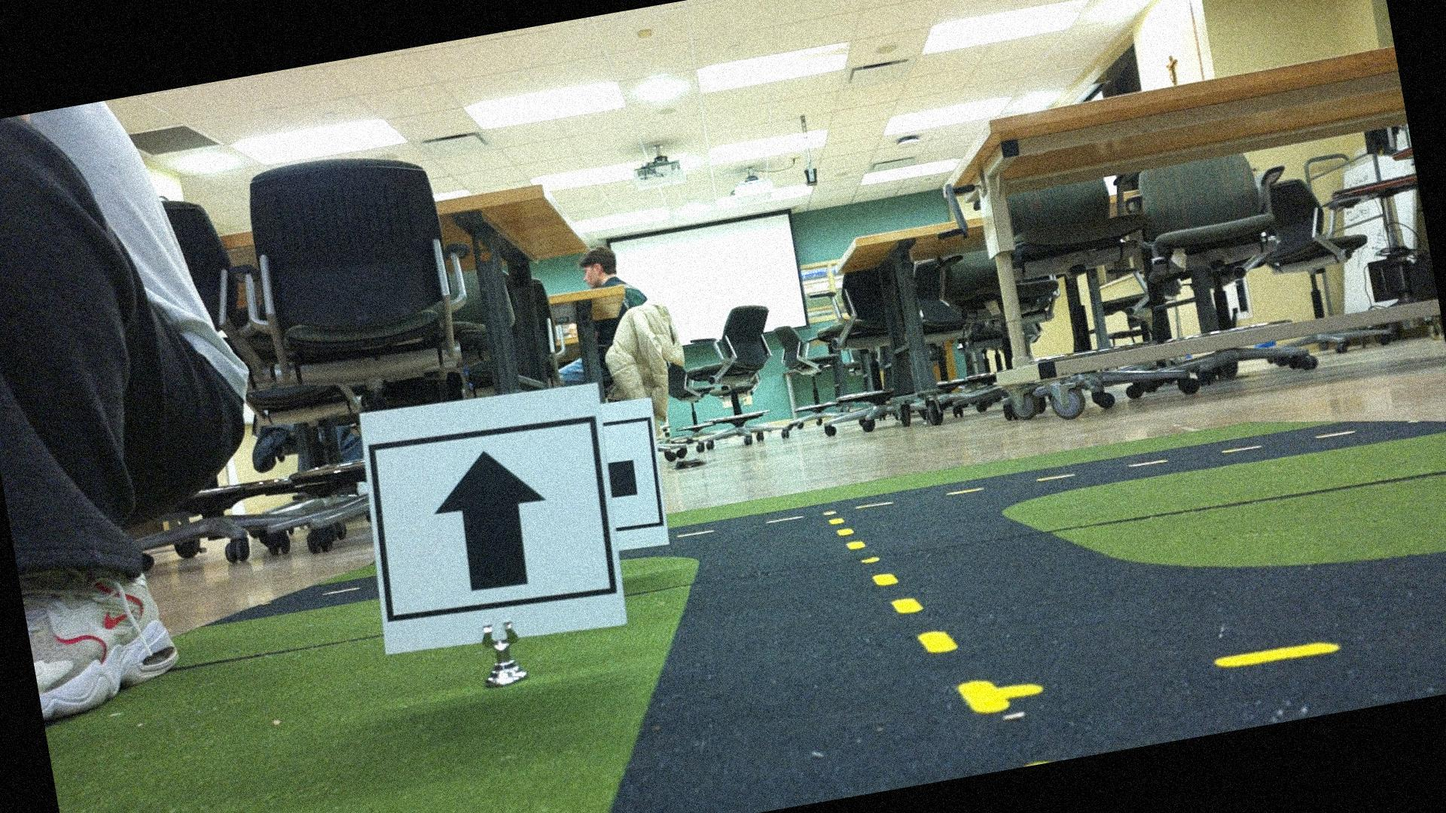gostraight: (353, 388, 622, 654)
yellowline: (823, 485, 1008, 735)
